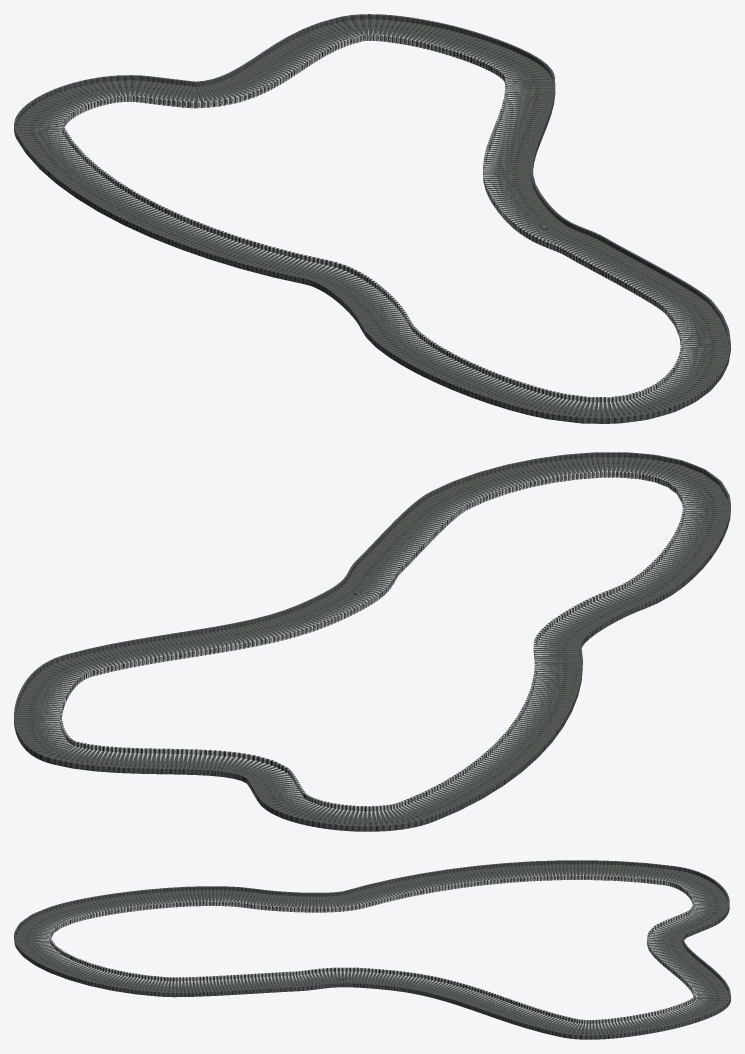
Rendered from RaceTrack.obj.
3 views of the same model, one above another, from view 1: azimuth 30°, elevation 25°; view 2: azimuth 150°, elevation 25°; view 3: azimuth 270°, elevation 25° (orthographic). The views are drawn at different scales.
Visible parts, largest first — view 1: Cube; view 2: Cube; view 3: Cube.
Boxes of the visible parts, x1,y1,x2,y2 form: Cube: (14,14,730,423); Cube: (14,452,730,831); Cube: (14,860,730,1039).
Bounding box in the file's own units: 237 × 2.65 × 410.
